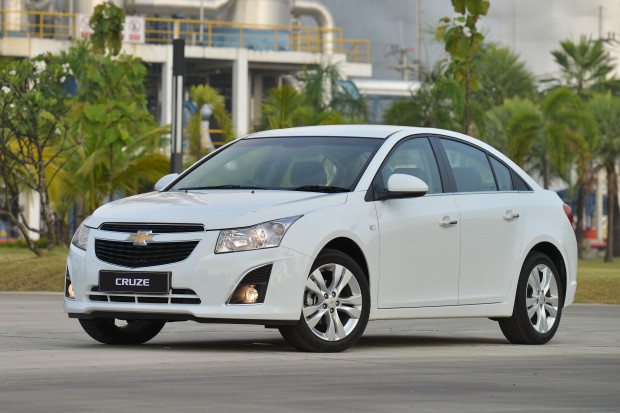sedan: (61, 121, 582, 353)
